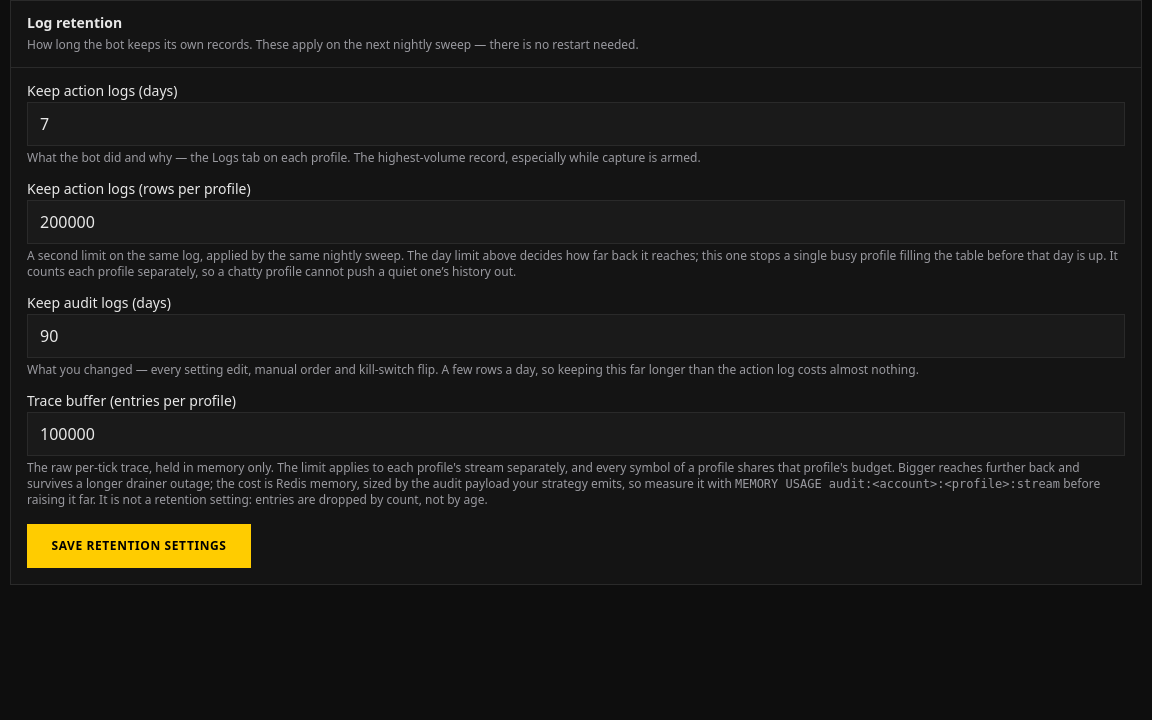
Test case: RetentionSettingsCard › saves an increase without asking for confirmation
Replace the text in the number field labelled "Keep action logs (days)" with "30". click: (576, 124)
box: [27,102,1125,146]
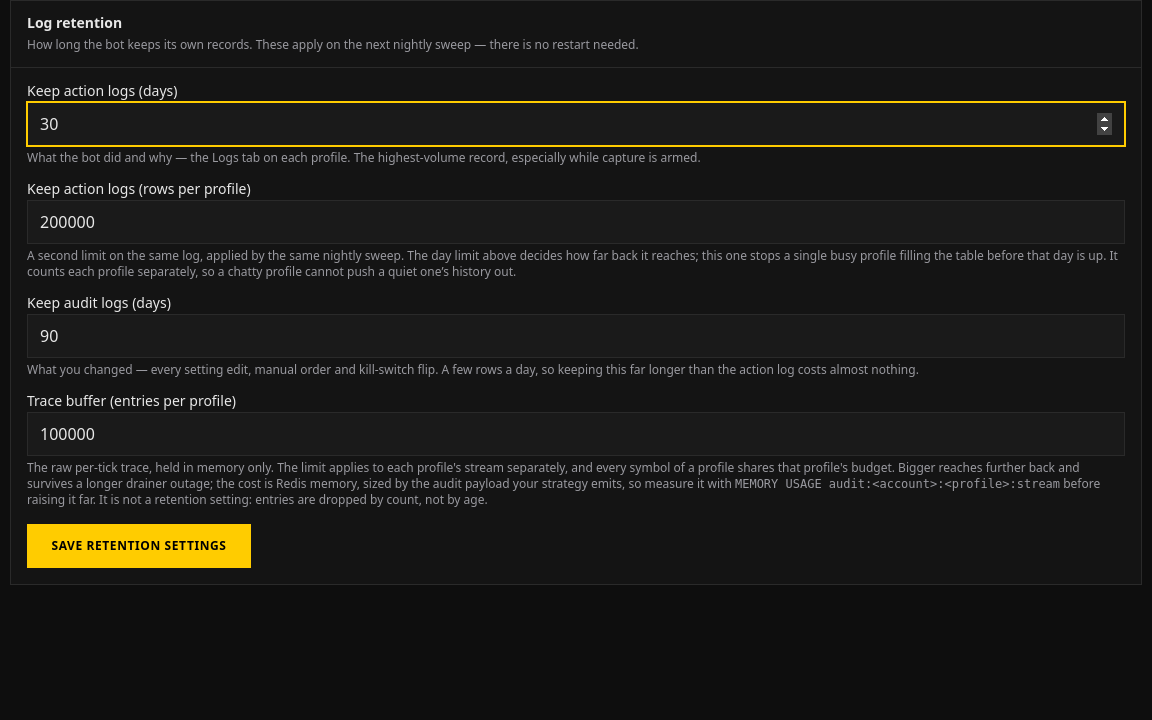
Click the button with test id "retention-save". click: (139, 546)
box: [27,524,251,568]
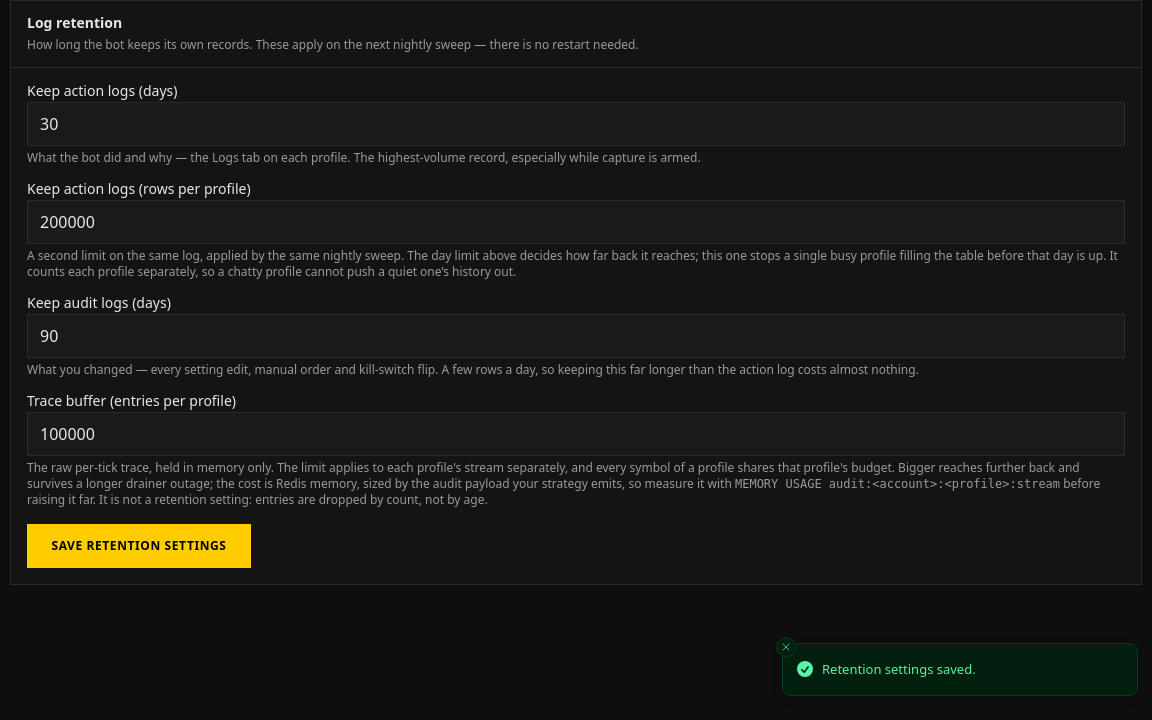
Expected: the text "Retention settings saved." is shown, [822,660,976,679]
